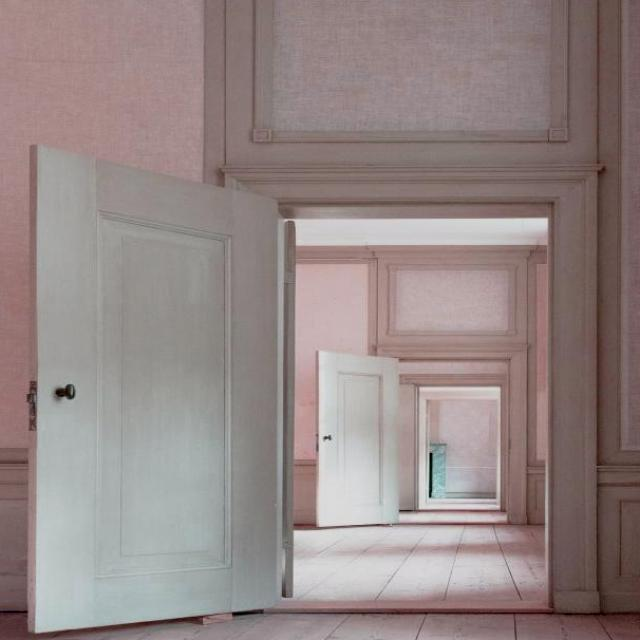door: (27, 143, 285, 633), (312, 344, 400, 530)
